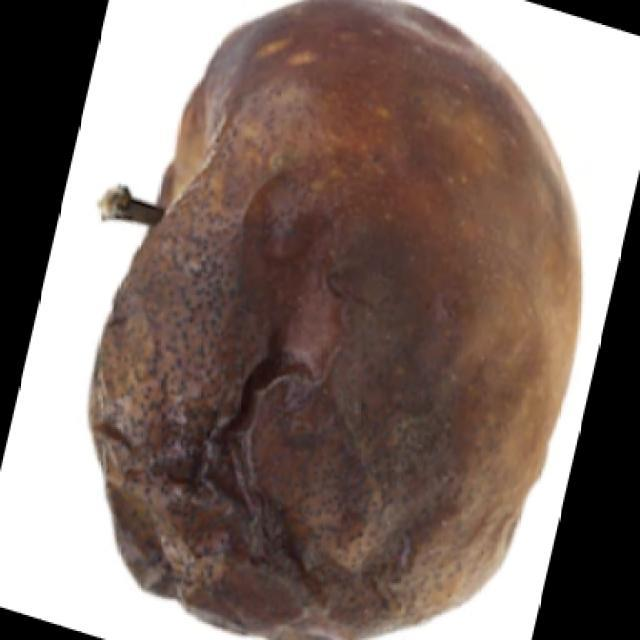Rotten: (132, 10, 575, 640)
